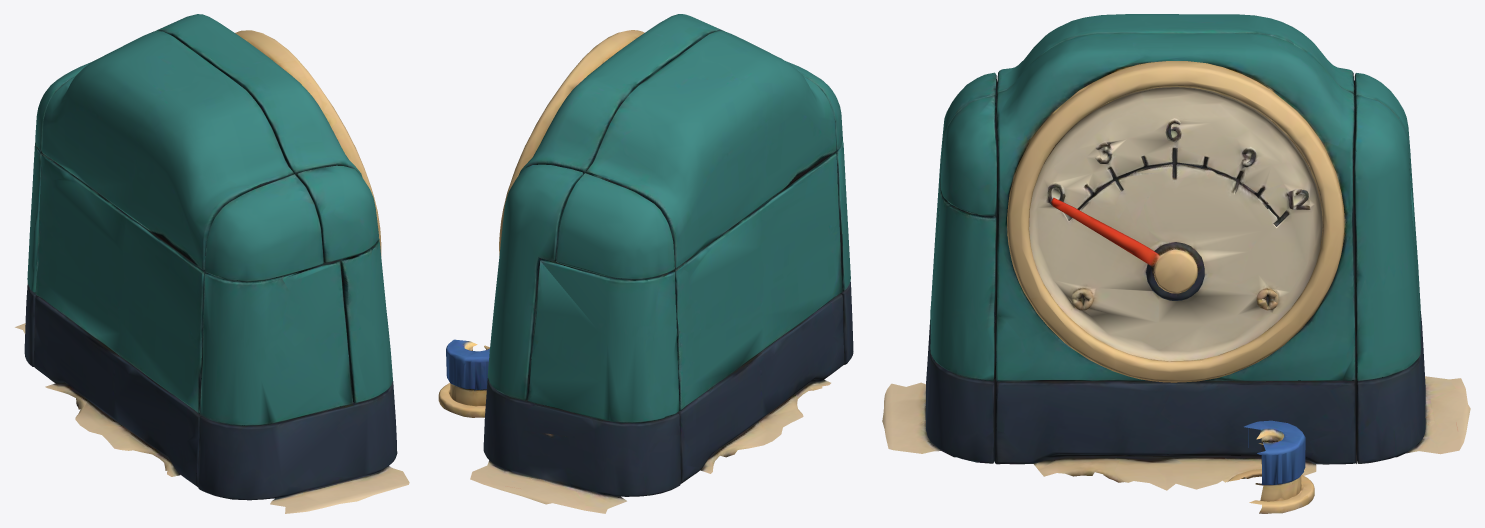
File: tester.glb
3 views of the same model, side by side, from view 1: azimuth 30°, elevation 25°; view 2: azimuth 150°, elevation 25°; view 3: azimuth 270°, elevation 25° (orthographic). The views are drawn at different scales.
Visible parts, largest first — view 1: tripo_node_6150e7e9-88af-43c1-bae0-fc5ea8de9a57; view 2: tripo_node_6150e7e9-88af-43c1-bae0-fc5ea8de9a57; view 3: tripo_node_6150e7e9-88af-43c1-bae0-fc5ea8de9a57.
Boxes of the visible parts, x1,y1,x2,y2 form: tripo_node_6150e7e9-88af-43c1-bae0-fc5ea8de9a57: (15,14,409,513); tripo_node_6150e7e9-88af-43c1-bae0-fc5ea8de9a57: (438,14,853,513); tripo_node_6150e7e9-88af-43c1-bae0-fc5ea8de9a57: (882,14,1470,513).
Bounding box in the file's own units: 0.638 × 0.7156 × 0.9823.
Materials: 1 (1 with a texture image).
